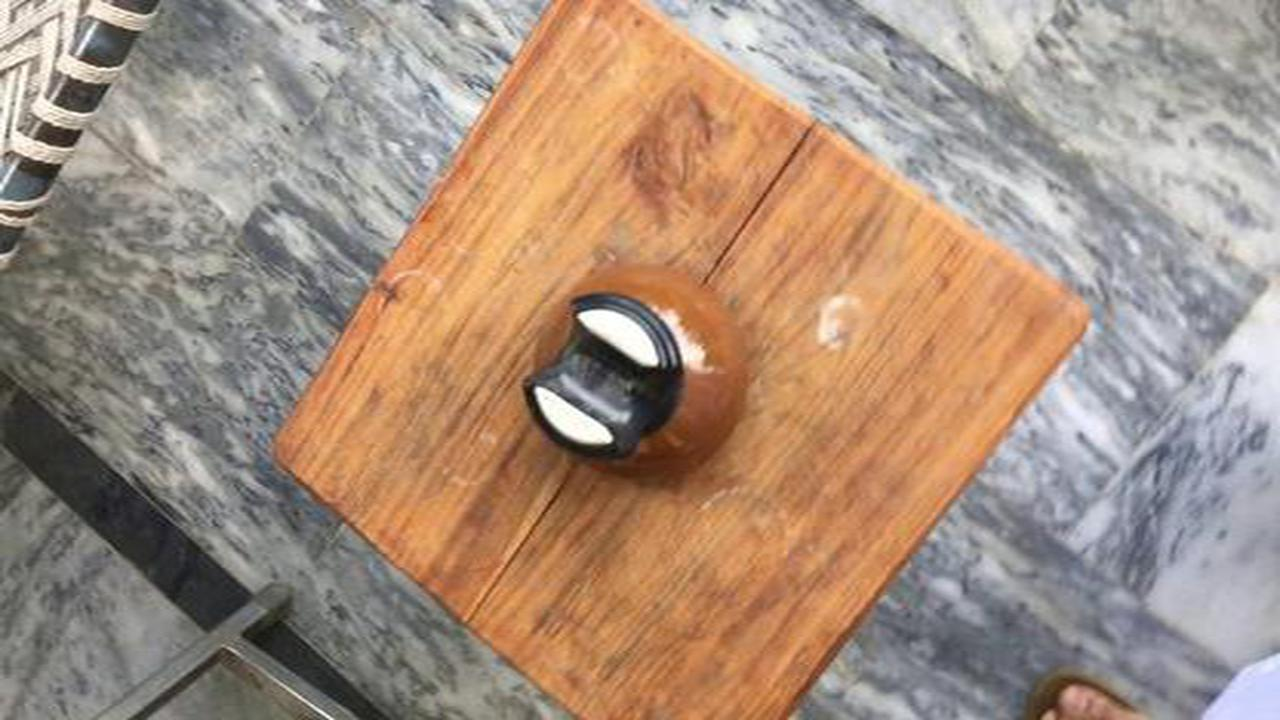insulator_pin: (496, 255, 779, 504)
